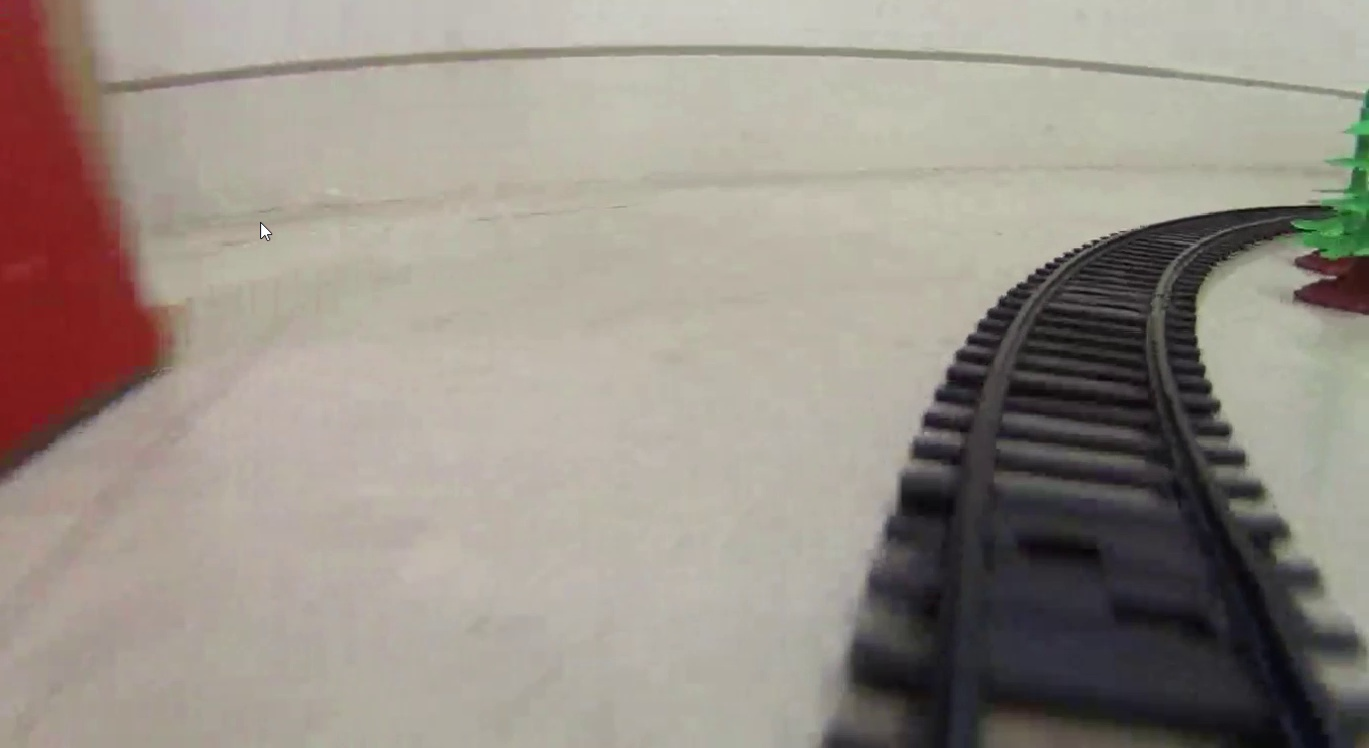tree: (1293, 86, 1369, 319)
